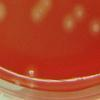white: (37, 0, 53, 16), (62, 15, 75, 33), (31, 7, 45, 23), (72, 5, 85, 20), (90, 19, 100, 36), (0, 0, 7, 23), (27, 67, 35, 77)
